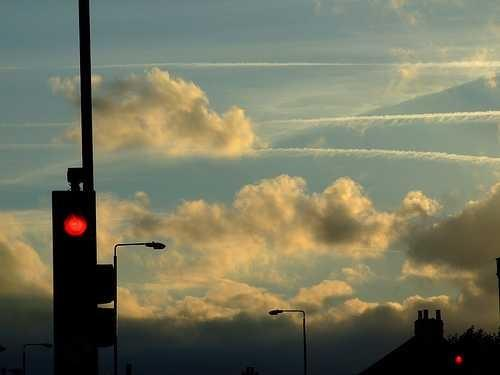red: (49, 187, 97, 318)
